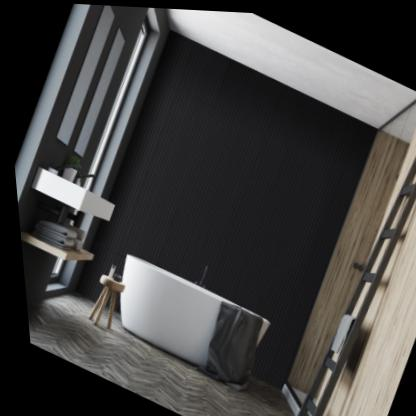Ceramic floor: (21, 294, 285, 416)
Wall Panel: (81, 31, 373, 385)
